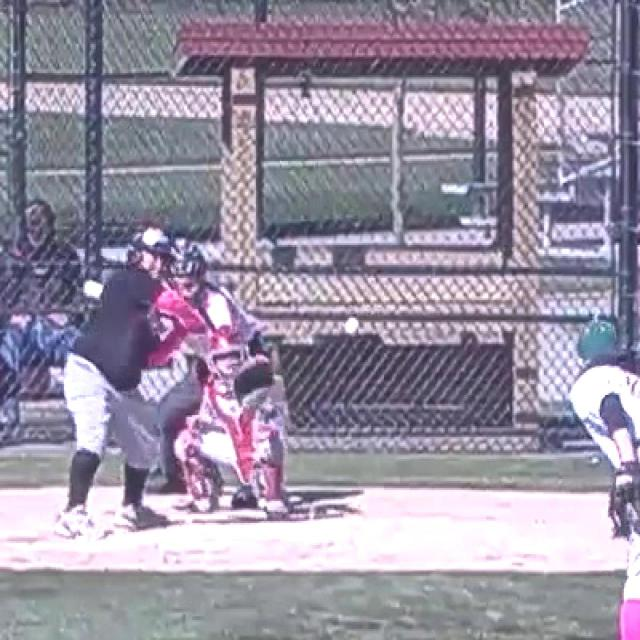baseball: (345, 318, 358, 334)
